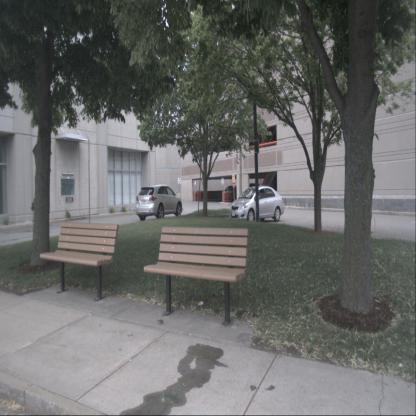vehicle-car: (230, 185, 284, 221), (135, 185, 182, 221)
